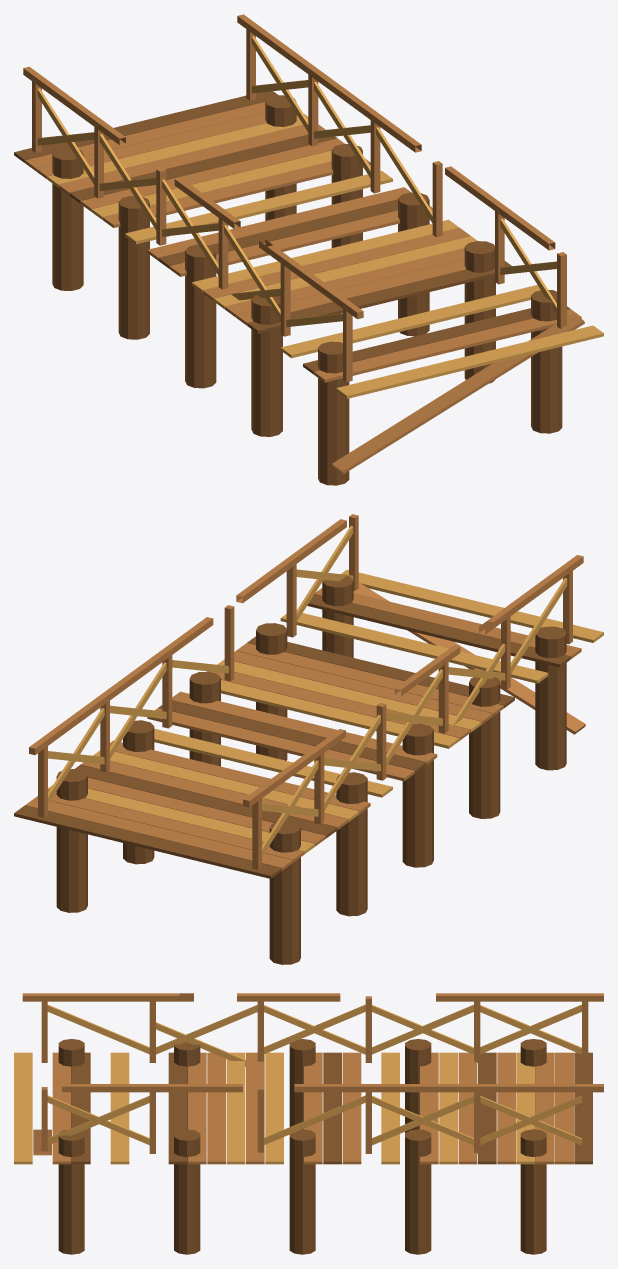
Rendered from 08 Broken_Wooden_Pull.FBX.
The picture shows the model from 3 angles, top to bottom: view 1: azimuth 30°, elevation 25°; view 2: azimuth 150°, elevation 25°; view 3: azimuth 270°, elevation 25°; orthographic projection. The views are drawn at different scales.
Parts seen in each view (by area): view 1: Broken_Wooden_Pull; view 2: Broken_Wooden_Pull; view 3: Broken_Wooden_Pull.
Boxes of the visible parts, x1,y1,x2,y2 form: Broken_Wooden_Pull: [14, 14, 603, 485]; Broken_Wooden_Pull: [14, 514, 603, 964]; Broken_Wooden_Pull: [14, 993, 603, 1254].
Size of the model in its own units: 2054 by 1436 by 4698.
